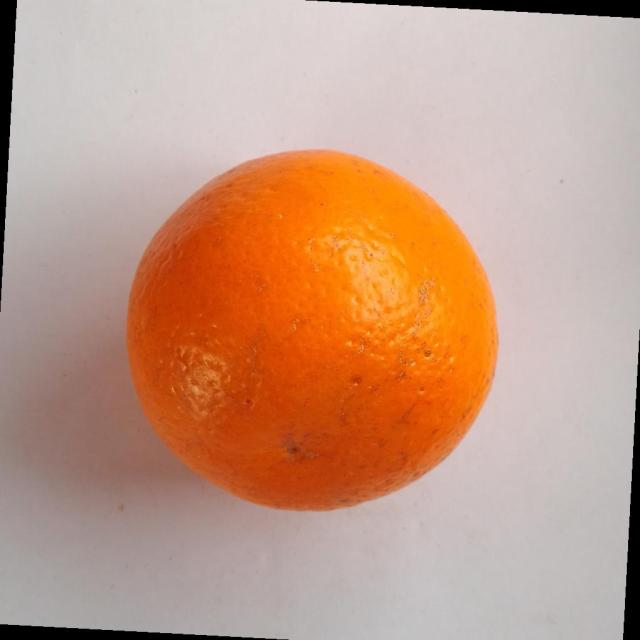fresh orange: (124, 147, 499, 512)
